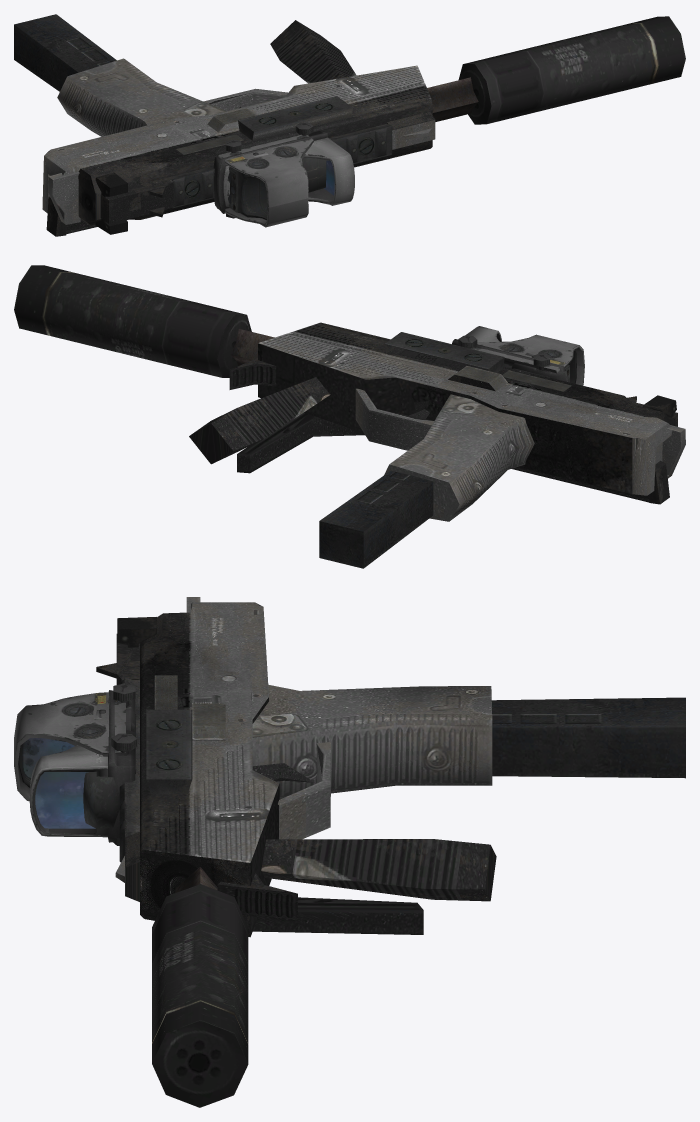
File: weapon_mp9_digital_LOD0.obj
3 views of the same model, one above another, from view 1: azimuth 30°, elevation 25°; view 2: azimuth 150°, elevation 25°; view 3: azimuth 270°, elevation 25° (orthographic). The views are drawn at different scales.
Parts seen in each view (by area): view 1: mtl_weapon_mp9_digital, mtl_weapon_suppressor_b, mtl_weapon_eotech_2_digital, mtl_weapon_red_dot_sight_digital; view 2: mtl_weapon_mp9_digital, mtl_weapon_suppressor_b, mtl_weapon_eotech_2_digital, mtl_weapon_red_dot_sight_digital; view 3: mtl_weapon_mp9_digital, mtl_weapon_suppressor_b, mtl_weapon_eotech_2_digital, mtl_weapon_red_dot_sight_digital, mtl_weapon_reflex_lens, mtl_weapon_eotech_2_lense.
Part boxes in pixels (x1,y1,x2,y2): mtl_weapon_mp9_digital: [14, 14, 478, 236]; mtl_weapon_suppressor_b: [458, 16, 685, 124]; mtl_weapon_eotech_2_digital: [218, 134, 326, 227]; mtl_weapon_red_dot_sight_digital: [213, 122, 354, 218]; mtl_weapon_mp9_digital: [189, 322, 685, 568]; mtl_weapon_suppressor_b: [14, 265, 251, 377]; mtl_weapon_eotech_2_digital: [471, 334, 584, 385]; mtl_weapon_red_dot_sight_digital: [452, 326, 568, 381]; mtl_weapon_mp9_digital: [96, 597, 685, 937]; mtl_weapon_suppressor_b: [152, 884, 248, 1107]; mtl_weapon_eotech_2_digital: [14, 692, 135, 828]; mtl_weapon_red_dot_sight_digital: [29, 683, 137, 845]; mtl_weapon_reflex_lens: [35, 772, 95, 828]; mtl_weapon_eotech_2_lense: [22, 738, 74, 779].
Bounding box in the file's own units: 48.64 × 6.13 × 31.66.
